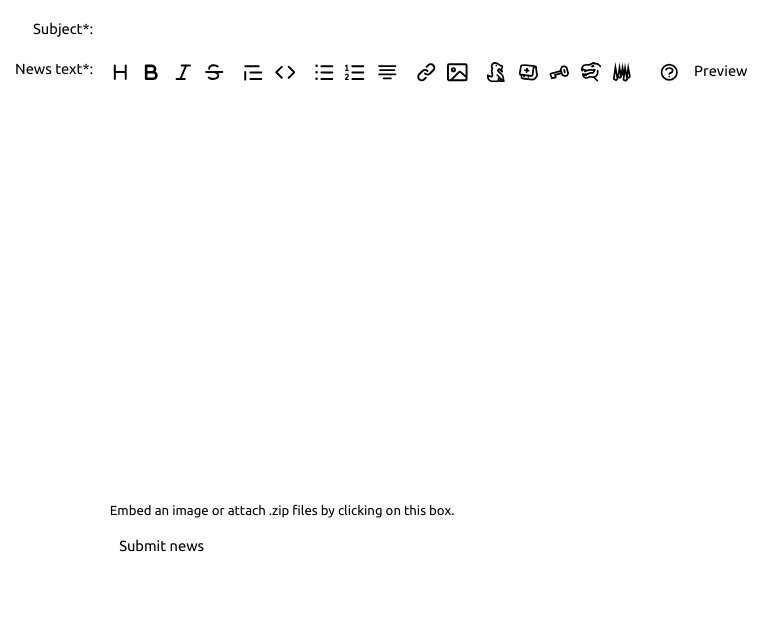
Test: NewsForm › shows per-field errors and does not submit when empty
The image size is (764, 642).
What coordinates should you click on to do the following:
click the button "Submit news"
I would click on:
 (162, 546)
Its box is [102,529,221,563].
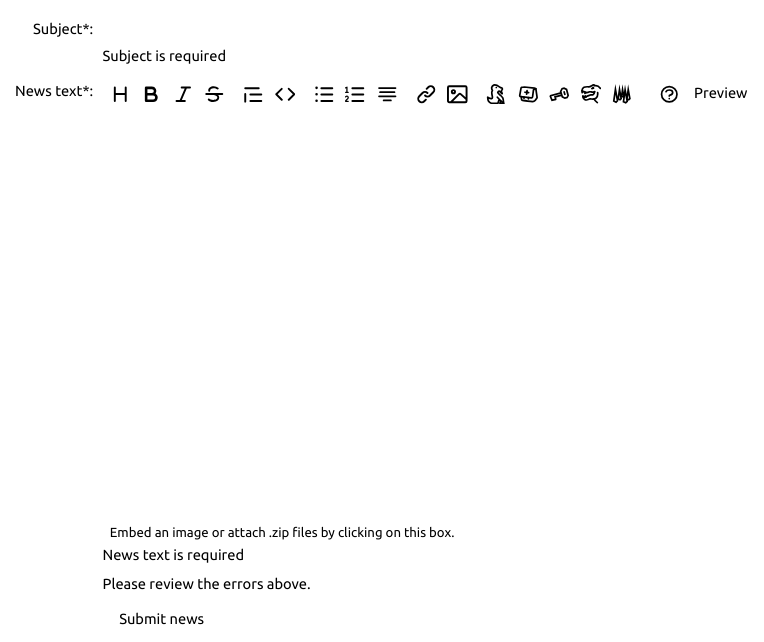
expect the text "Subject is required" is shown: met, box [102,47,226,64]
expect the text "News text is required" is shown: met, box [102,546,244,563]
